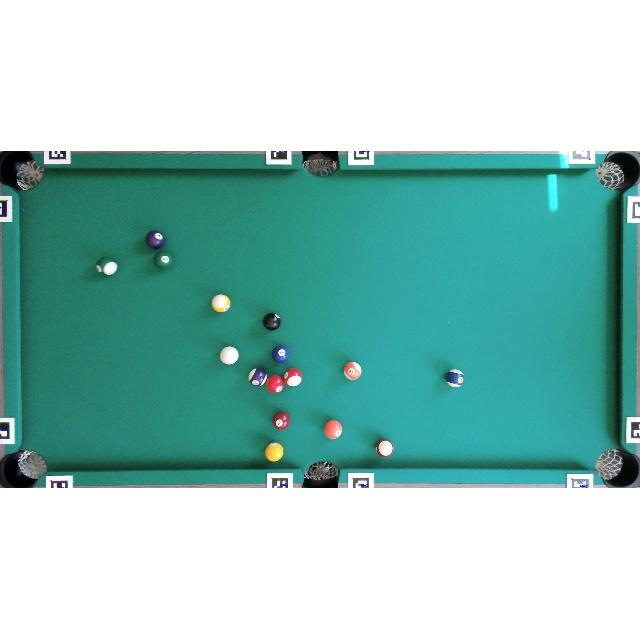cue ball: (220, 346, 238, 364)
other: (96, 256, 119, 276), (153, 250, 175, 270), (145, 230, 166, 250), (264, 442, 284, 462), (323, 420, 342, 440), (211, 294, 231, 313), (445, 369, 464, 388), (249, 368, 267, 387), (284, 368, 302, 387), (266, 375, 285, 393), (344, 362, 362, 380), (376, 439, 394, 457), (272, 345, 290, 363), (273, 411, 290, 430), (263, 313, 281, 330)
